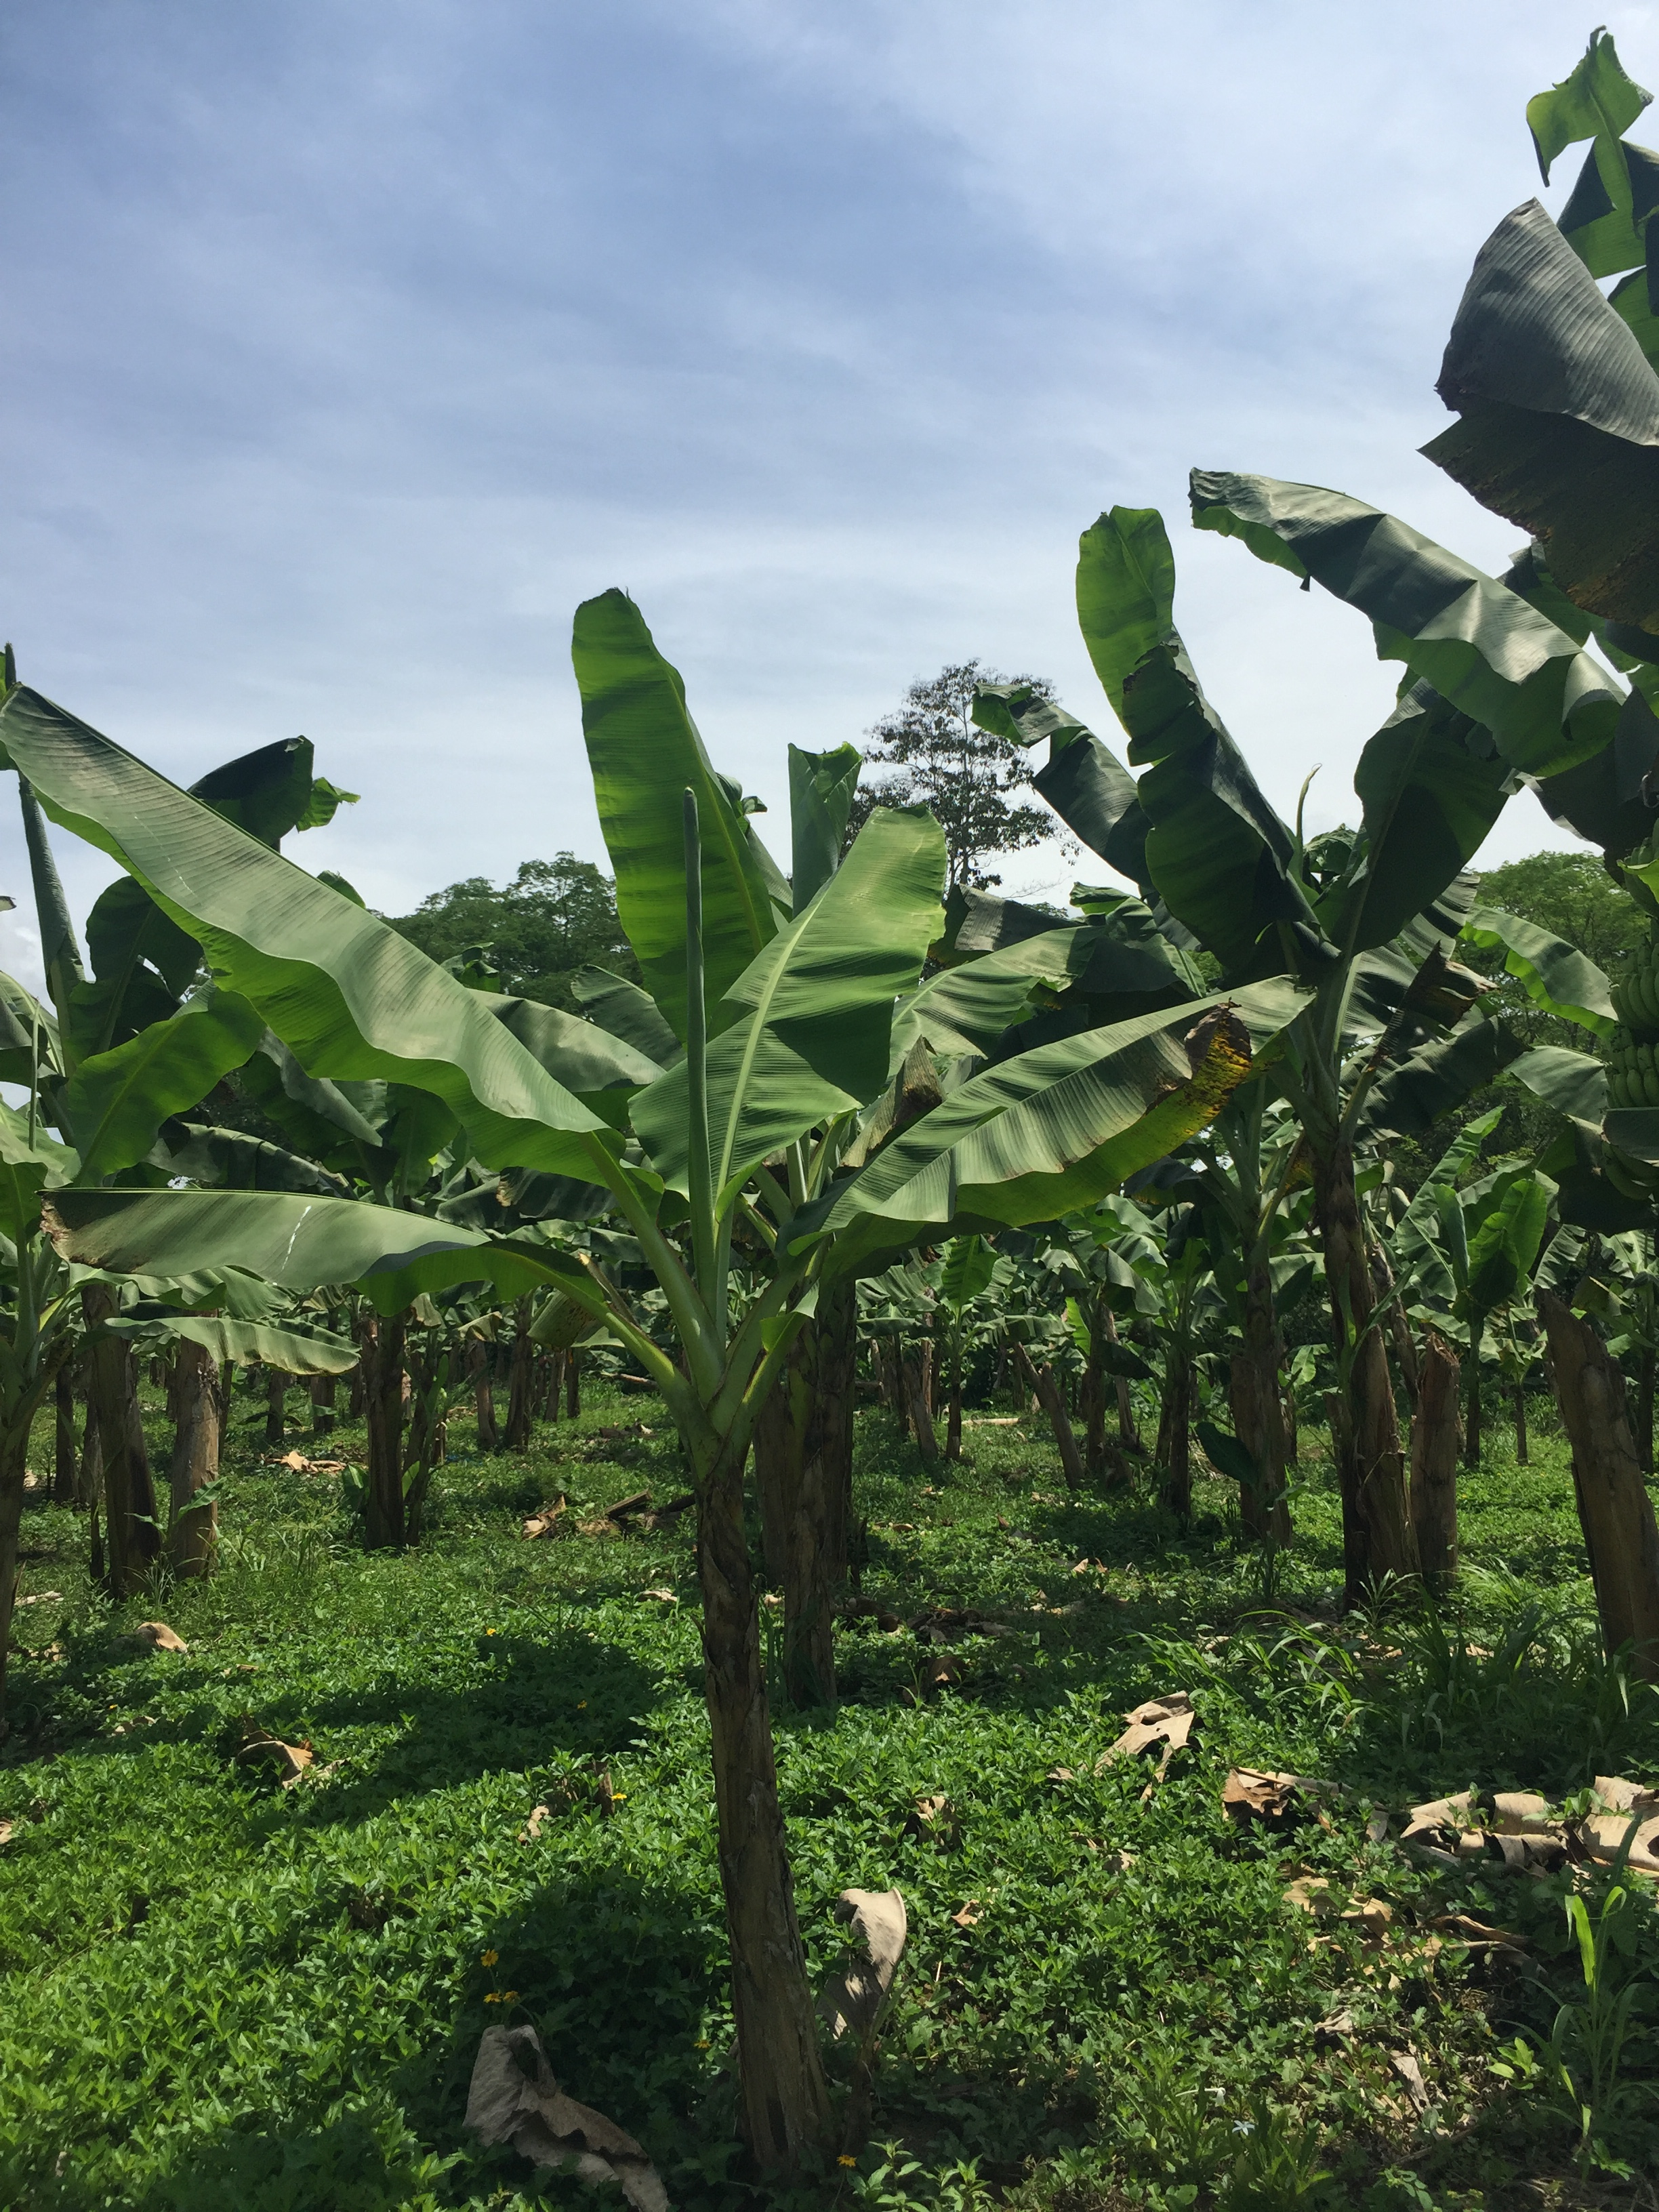candleleafs: (678, 787, 714, 1306), (1297, 765, 1323, 867)
